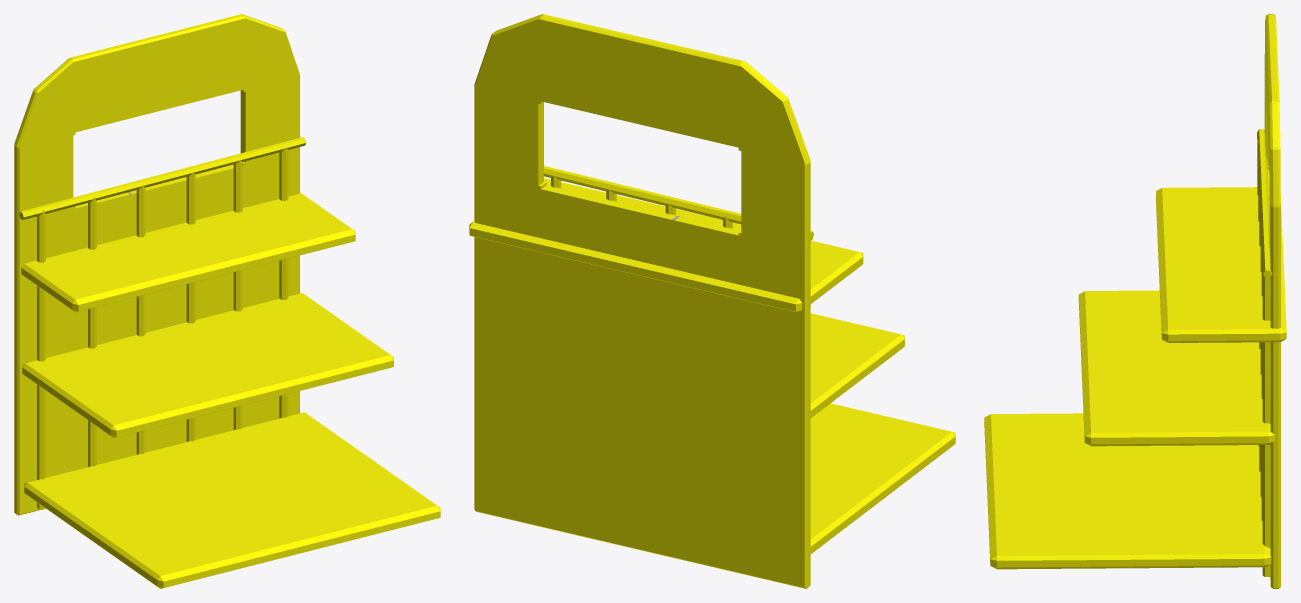
The model's file is spice rack updated.fbx.
3 views of the same model, side by side, from view 1: azimuth 30°, elevation 25°; view 2: azimuth 150°, elevation 25°; view 3: azimuth 270°, elevation 25° (orthographic). The views are drawn at different scales.
Visible parts, largest first — view 1: polySurface184, polySurface188, polySurface170, polySurface165, polySurface192, polySurface172, polySurface164, polySurface185, polySurface163, polySurface169, polySurface171; view 2: polySurface184, polySurface188, polySurface165, polySurface170, polySurface192; view 3: polySurface188, polySurface170, polySurface165, polySurface184, polySurface163, polySurface192.
Boxes of the visible parts, bbox=[...] form: polySurface184: bbox=[14, 14, 299, 515]; polySurface188: bbox=[24, 412, 440, 588]; polySurface170: bbox=[22, 293, 393, 438]; polySurface165: bbox=[21, 192, 355, 312]; polySurface192: bbox=[19, 137, 306, 219]; polySurface172: bbox=[37, 210, 45, 509]; polySurface164: bbox=[88, 197, 96, 466]; polySurface185: bbox=[233, 160, 242, 429]; polySurface163: bbox=[279, 148, 288, 418]; polySurface169: bbox=[186, 173, 195, 441]; polySurface171: bbox=[136, 185, 145, 454]; polySurface184: bbox=[474, 14, 810, 588]; polySurface188: bbox=[810, 403, 955, 553]; polySurface165: bbox=[469, 178, 863, 312]; polySurface170: bbox=[810, 313, 904, 417]; polySurface192: bbox=[543, 166, 813, 240]; polySurface188: bbox=[984, 413, 1271, 569]; polySurface170: bbox=[1078, 290, 1274, 446]; polySurface165: bbox=[1156, 187, 1286, 342]; polySurface184: bbox=[1264, 14, 1280, 588]; polySurface163: bbox=[1262, 270, 1270, 576]; polySurface192: bbox=[1257, 129, 1272, 277].
Bounding box in the file's own units: 0.6146 × 0.8844 × 0.5277.
